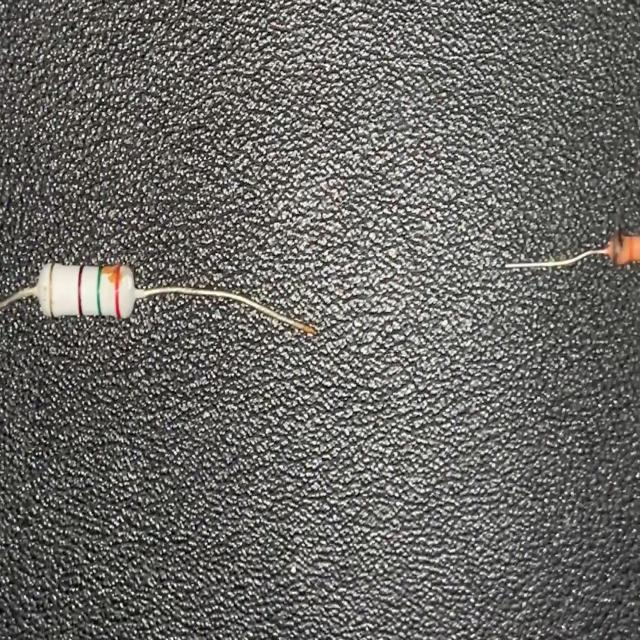burnt: (604, 228, 629, 266), (98, 259, 125, 288)
resistor: (0, 254, 320, 335), (502, 226, 640, 277)
